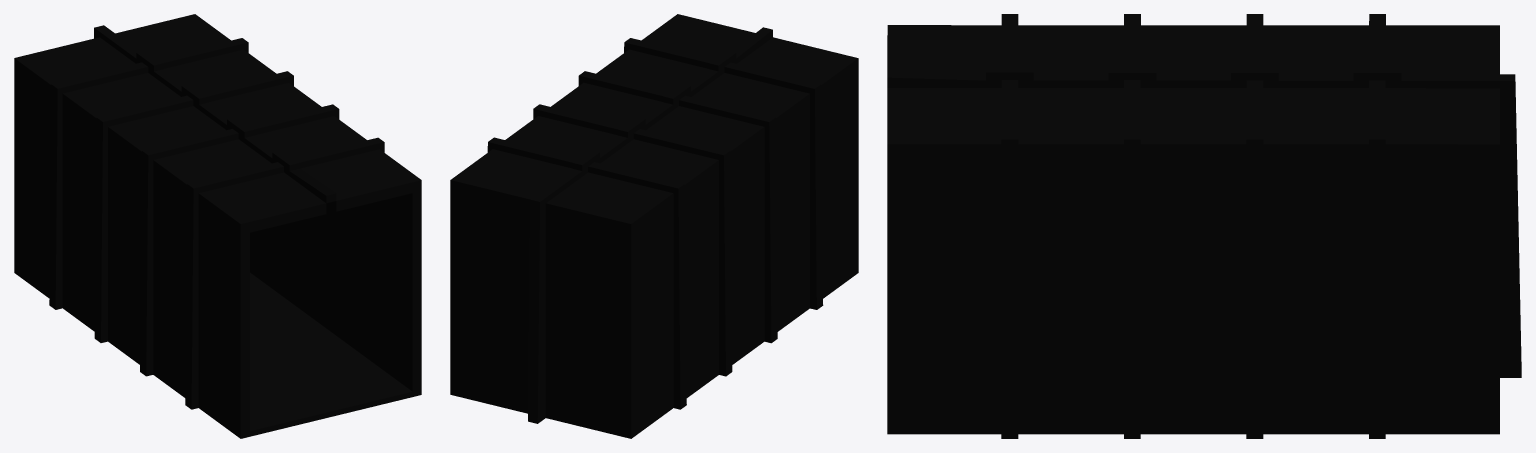
File: contenedor2.glb
3 views of the same model, side by side, from view 1: azimuth 30°, elevation 25°; view 2: azimuth 150°, elevation 25°; view 3: azimuth 270°, elevation 25° (orthographic). The views are drawn at different scales.
Visible parts, largest first — view 1: Cube.007; view 2: Cube.007; view 3: Cube.007.
Part boxes in pixels (box(x1,y1,x2,y2)): Cube.007: box(14, 14, 421, 438); Cube.007: box(450, 14, 858, 438); Cube.007: box(887, 14, 1521, 438).
Bounding box in the file's own units: 2.79 × 3.09 × 5.82.
1 material, 1 textured.
